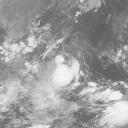cyclone: (46, 47, 76, 85)
